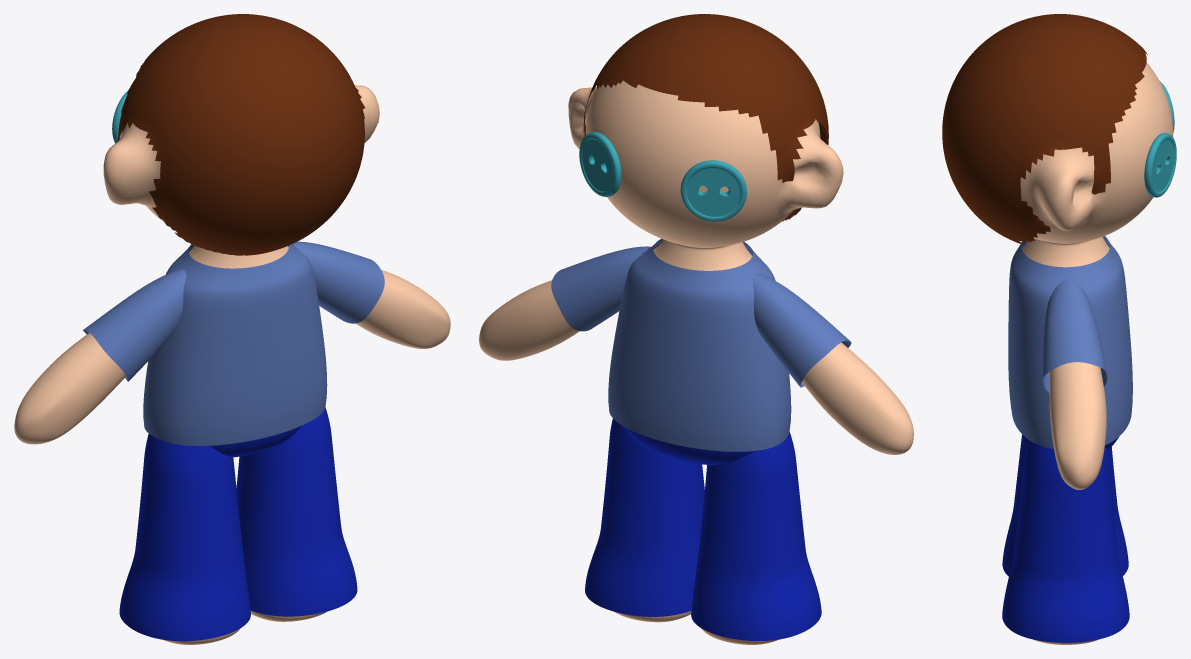
Rendered from doll.glb.
3 renders of one model, left to right at view 1: azimuth 30°, elevation 25°; view 2: azimuth 150°, elevation 25°; view 3: azimuth 270°, elevation 25°, orthographic. The views are drawn at different scales.
Parts seen in each view (by area): view 1: hair, trusers, tshirt, body; view 2: body, tshirt, trusers, hair, eye.l, eye.r; view 3: hair, body, trusers, tshirt, eye.r.
Part boxes in pixels (x1=…): hair: x1=118, y1=14, x2=365, y2=255; trusers: x1=119, y1=407, x2=357, y2=641; tshirt: x1=83, y1=241, x2=384, y2=445; body: x1=14, y1=85, x2=450, y2=644; body: x1=479, y1=80, x2=913, y2=644; tshirt: x1=551, y1=238, x2=851, y2=451; trusers: x1=585, y1=418, x2=821, y2=640; hair: x1=583, y1=14, x2=828, y2=221; eye.l: x1=680, y1=160, x2=746, y2=221; eye.r: x1=579, y1=132, x2=621, y2=196; hair: x1=942, y1=14, x2=1147, y2=244; body: x1=1020, y1=62, x2=1173, y2=644; trusers: x1=1002, y1=434, x2=1129, y2=642; tshirt: x1=1008, y1=236, x2=1132, y2=448; eye.r: x1=1144, y1=132, x2=1176, y2=197.
Bounding box in the file's own units: 0.0551 × 0.0727 × 0.0264.
5 materials, 4 textured.
